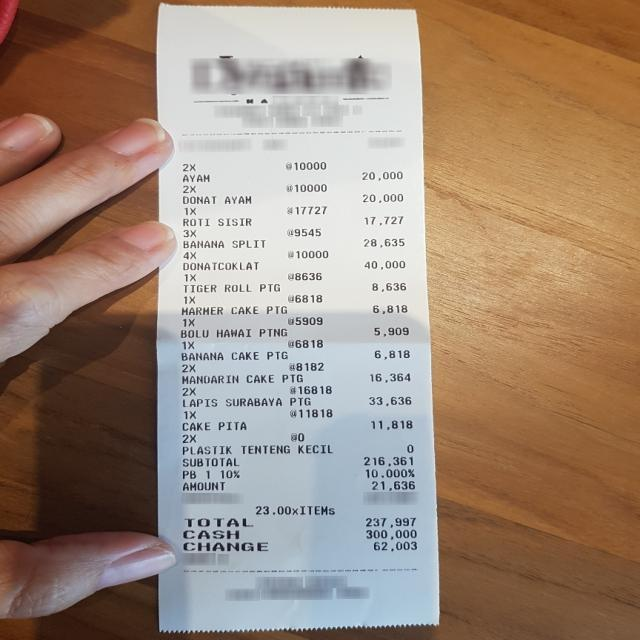kertas: (143, 0, 441, 633)
